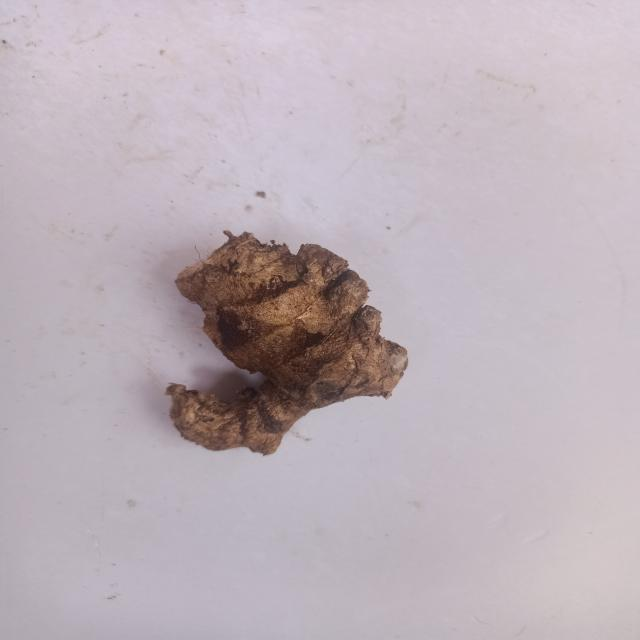Ginger: (137, 207, 427, 473)
